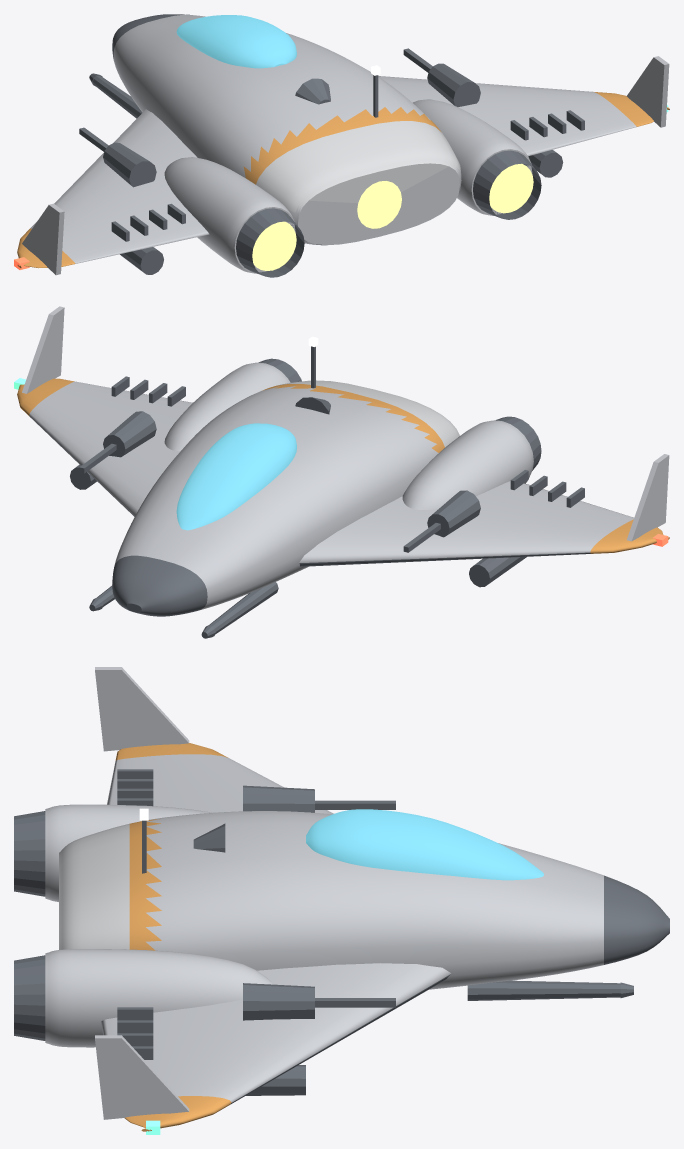
Rendered from kestrel.glb.
3 views of the same model, one above another, from view 1: azimuth 30°, elevation 25°; view 2: azimuth 150°, elevation 25°; view 3: azimuth 270°, elevation 25° (orthographic). The views are drawn at different scales.
Parts seen in each view (by area): view 1: Kestrel_Hull; view 2: Kestrel_Hull; view 3: Kestrel_Hull.
Part boxes in pixels (x1,y1,x2,y2): Kestrel_Hull: [14, 14, 669, 277]; Kestrel_Hull: [14, 306, 669, 638]; Kestrel_Hull: [14, 667, 669, 1134].
Bounding box in the file's own units: 10.4 × 2.24 × 7.3.
